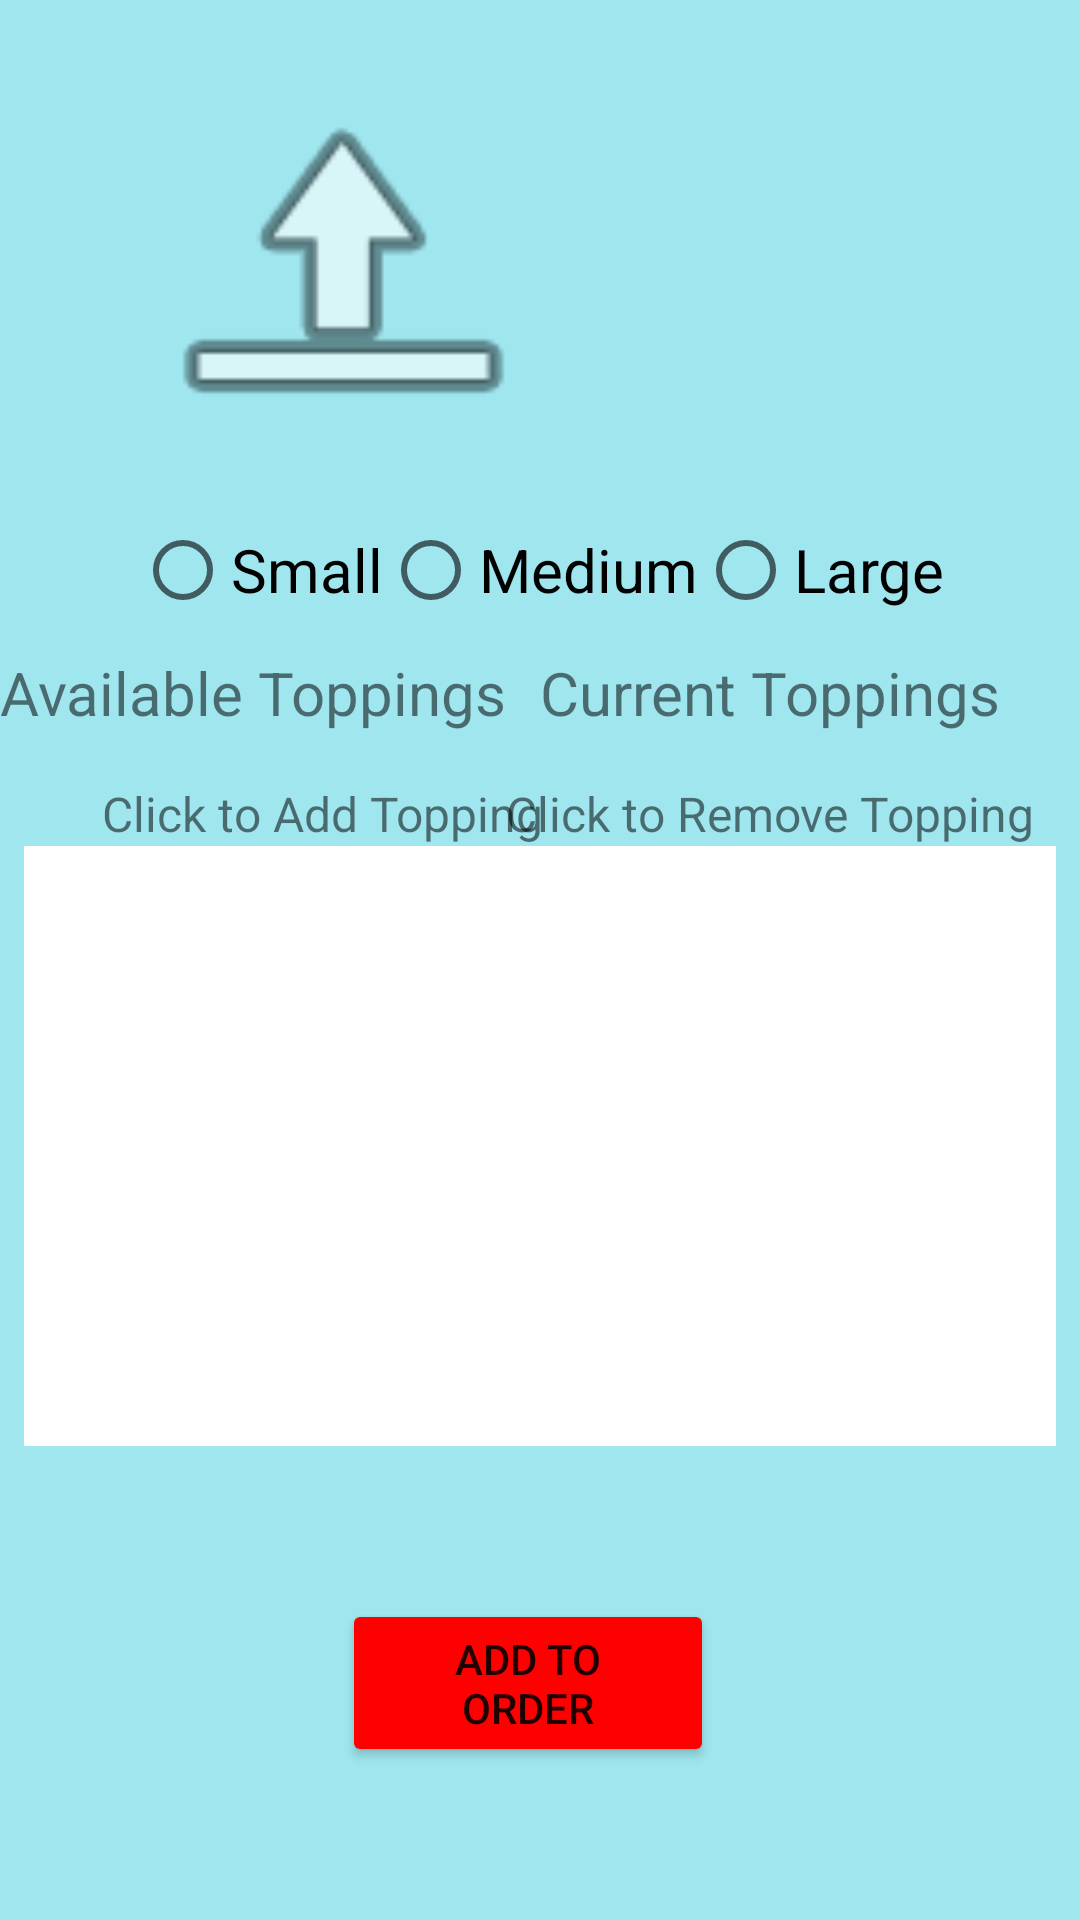

Icon bounding boxes for this 1080 × 1920 phone screenshot, format [x1,y1,x2,y2]:
upload: [184,129,504,393]
